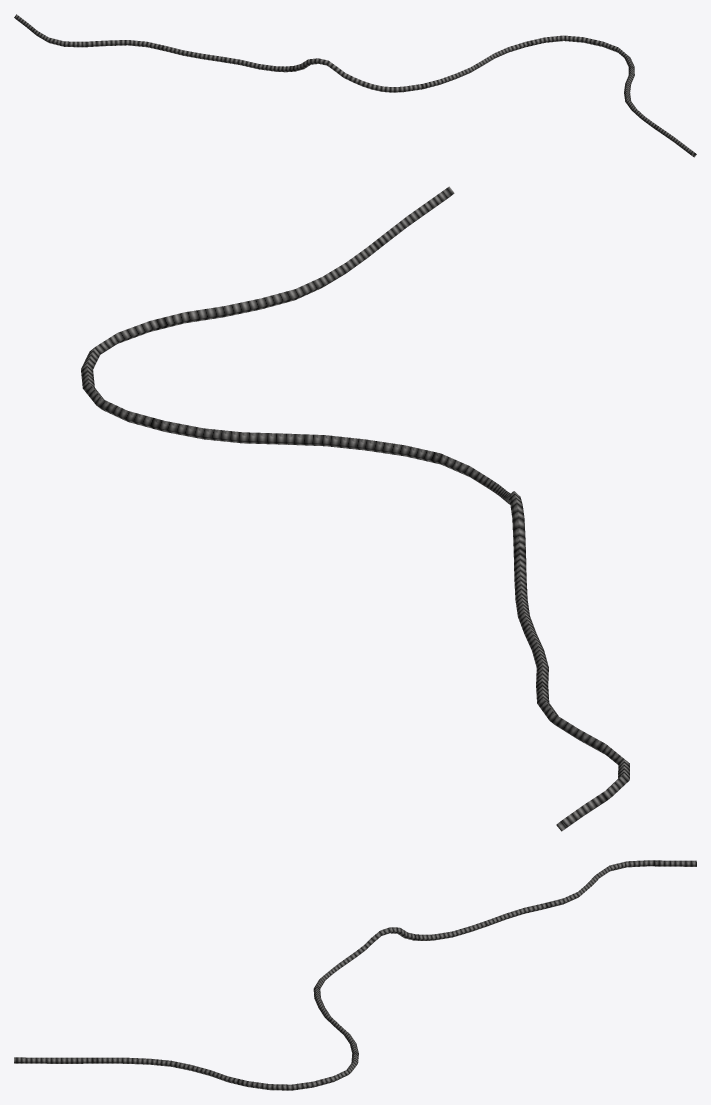
The model's file is Hose_F.fbx.
3 renders of one model, top to bottom at view 1: azimuth 30°, elevation 25°; view 2: azimuth 150°, elevation 25°; view 3: azimuth 270°, elevation 25°, orthographic. The views are drawn at different scales.
Visible parts, largest first — view 1: ___labPipe2_0_0:___labPipe2; view 2: ___labPipe2_0_0:___labPipe2; view 3: ___labPipe2_0_0:___labPipe2.
Part boxes in pixels (bbox=[...]): ___labPipe2_0_0:___labPipe2: bbox=[14, 14, 696, 157]; ___labPipe2_0_0:___labPipe2: bbox=[81, 186, 629, 831]; ___labPipe2_0_0:___labPipe2: bbox=[14, 860, 696, 1090].
Bounding box in the file's own units: 23.87 × 1.33 × 30.31.
